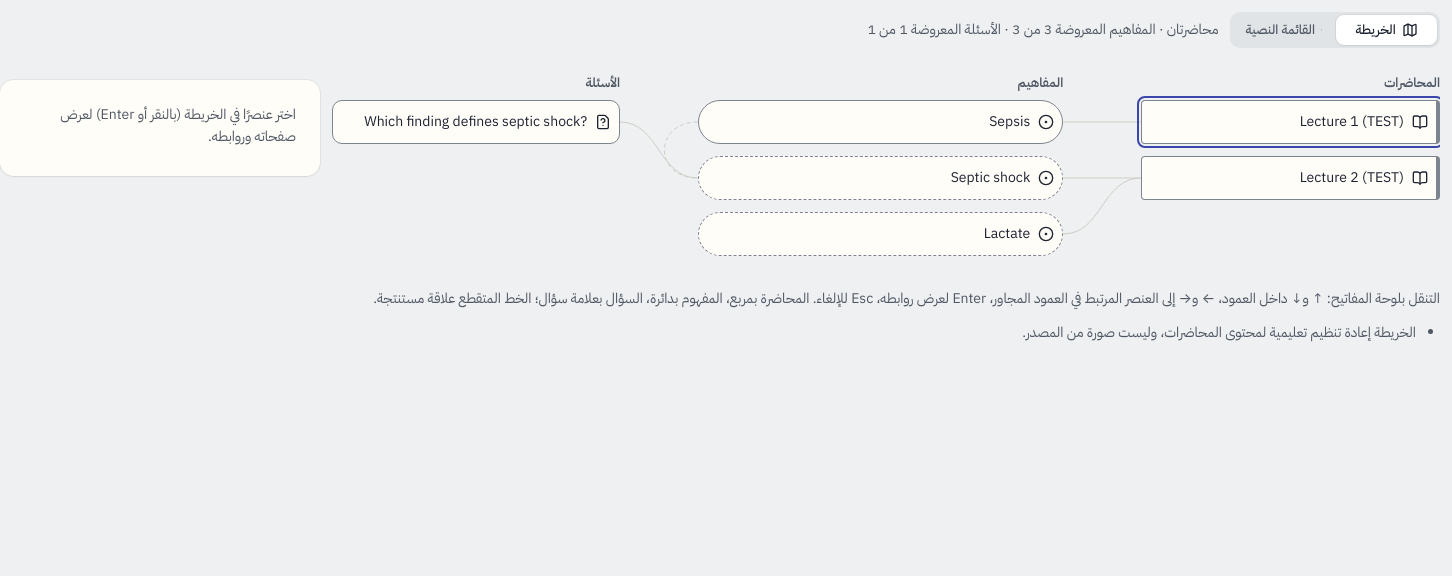
KnowledgeGraph accessibility › arrow keys move focus (RTL: ArrowLeft = next column), Enter selects and the live panel lists the links, Escape clears
The image size is (1452, 576).
Press ArrowDown in the button with aria-label "محاضرة: Lecture 1", box [1141,100,1440,144]
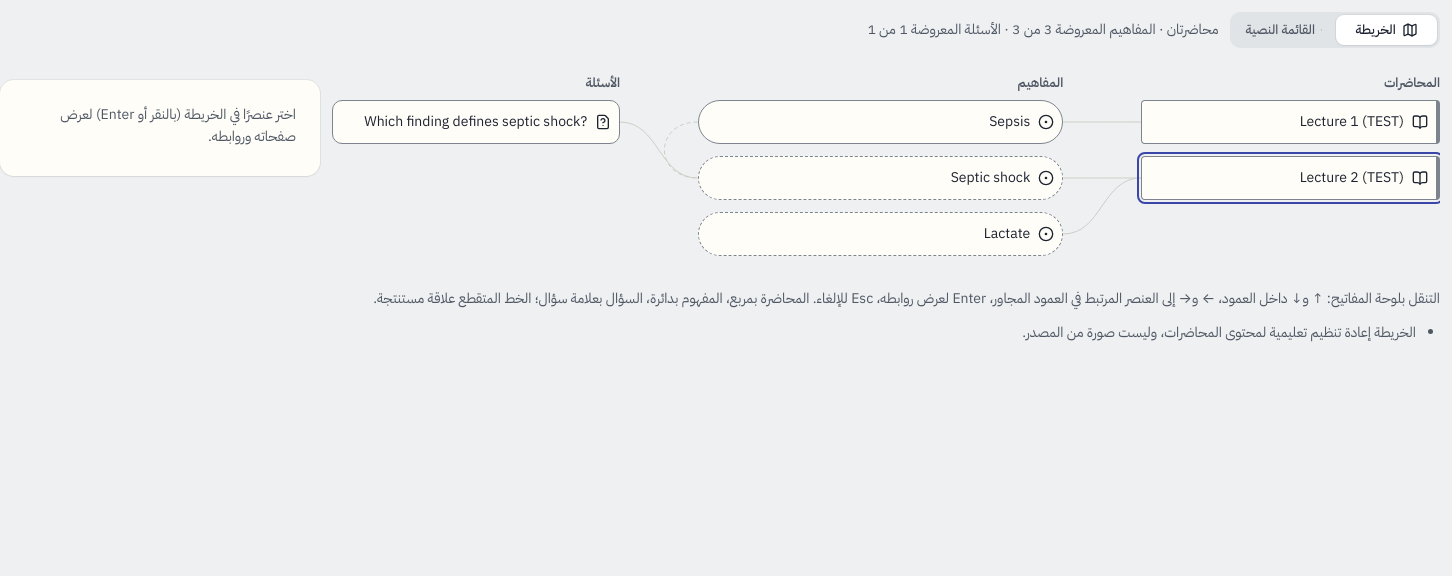
Press ArrowLeft in the button with aria-label "محاضرة: Lecture 2", box [1141,156,1440,200]
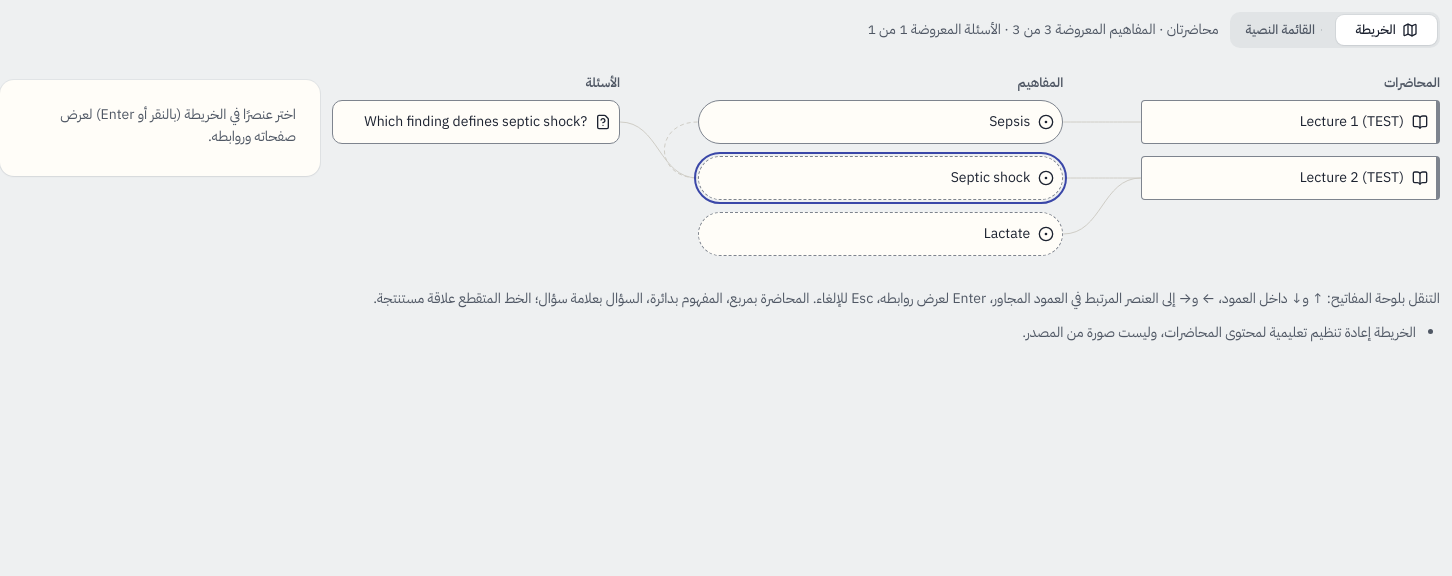
Click the button with aria-label "مفهوم: Septic shock".
click(990, 178)  # box [698,156,1063,200]
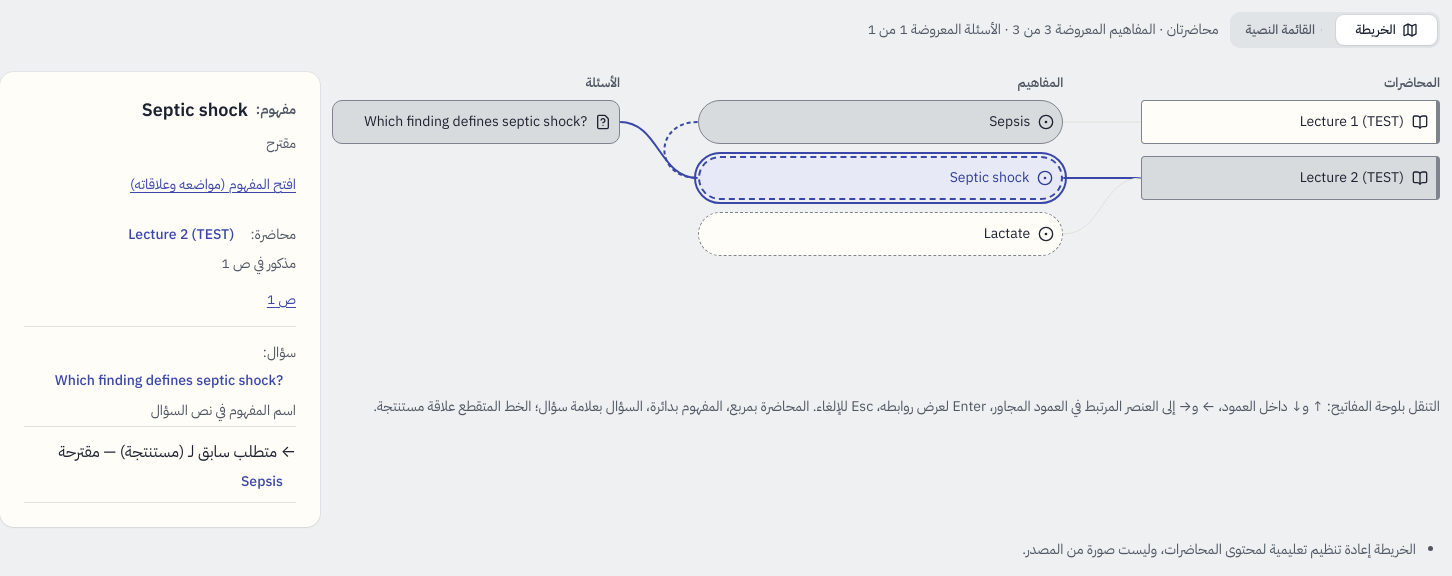
Now the 1st text "Septic shock" is shown, box [142,96,248,125]
Now the text "اسم المفهوم في نص السؤال" is shown, box [151,400,296,421]
Now the element named "تفاصيل العنصر المختار" shows "(مستنتجة)", box [58,440,277,464]
«go to» moves the selection inside the map
Click the button with aria-label "انتقل في الخريطة إلى مفهوم: Sepsis".
click(262, 482)  # box [228,466,296,498]
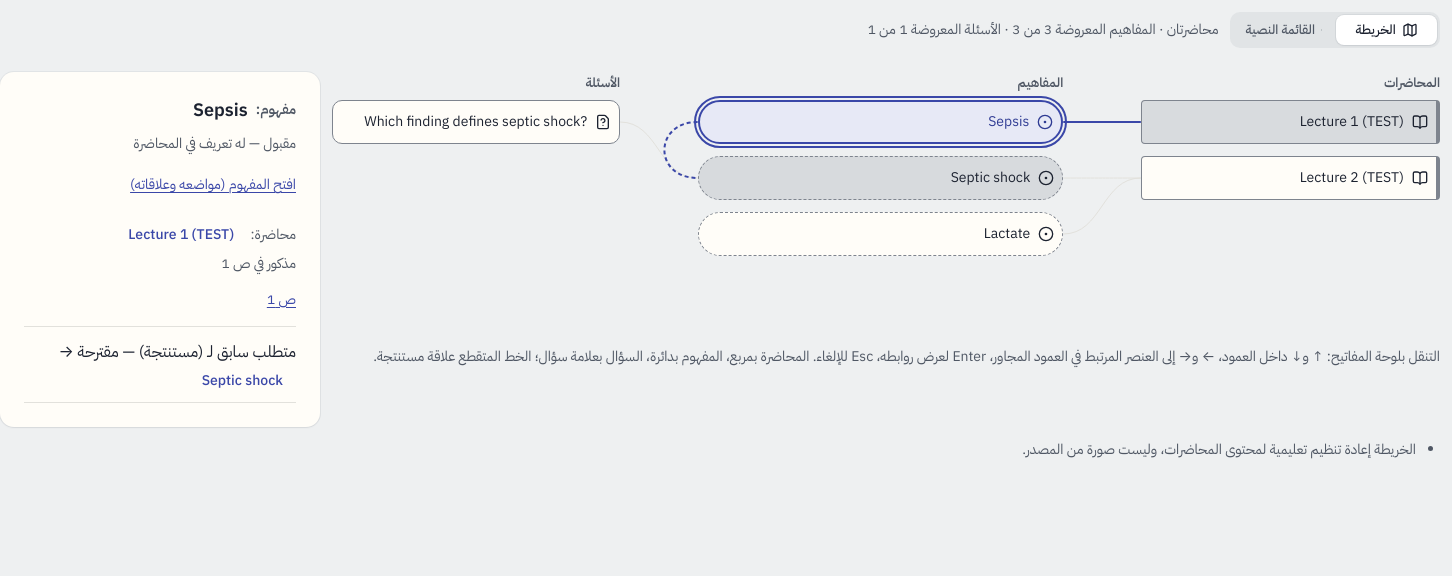
Now the button with aria-label "مفهوم: Sepsis" is pressed
Press Escape in the button with aria-label "مفهوم: Sepsis", box [698,100,1063,144]
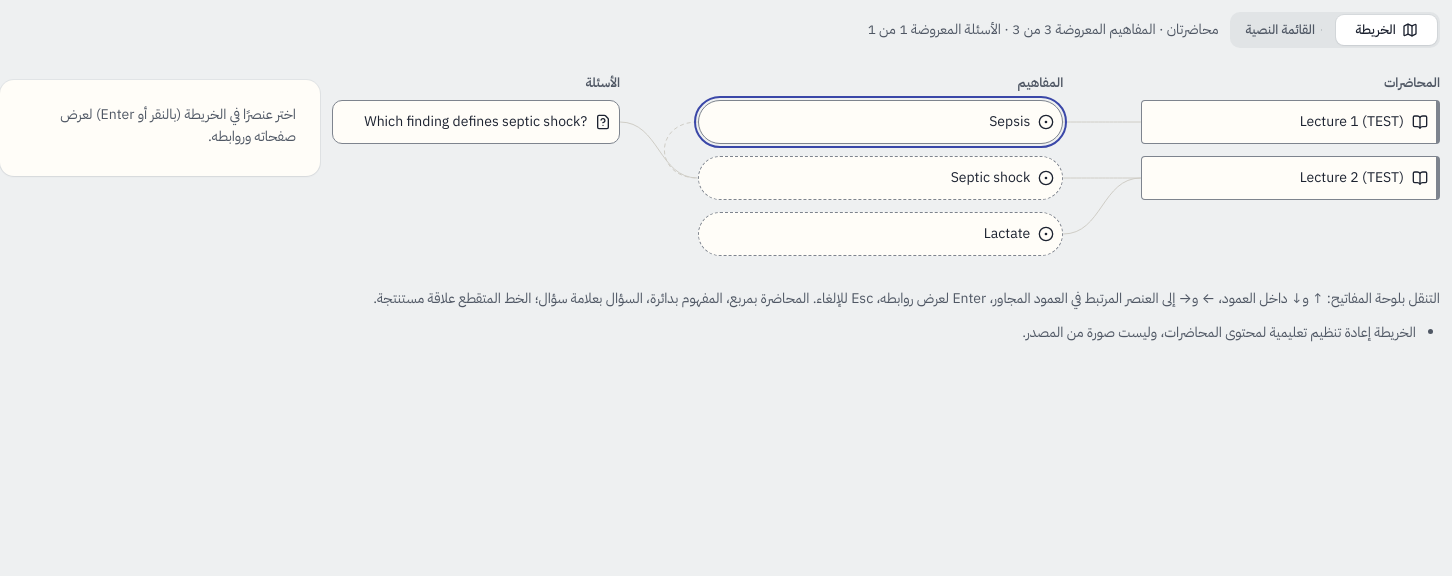
Now the text "اختر عنصرًا في الخريطة" is shown, box [60,104,296,147]
